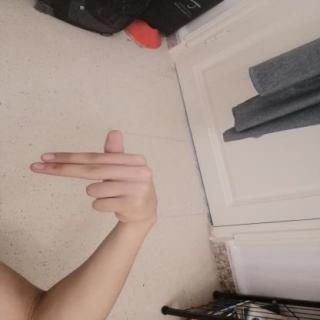GHAYN: (20, 125, 165, 228)
